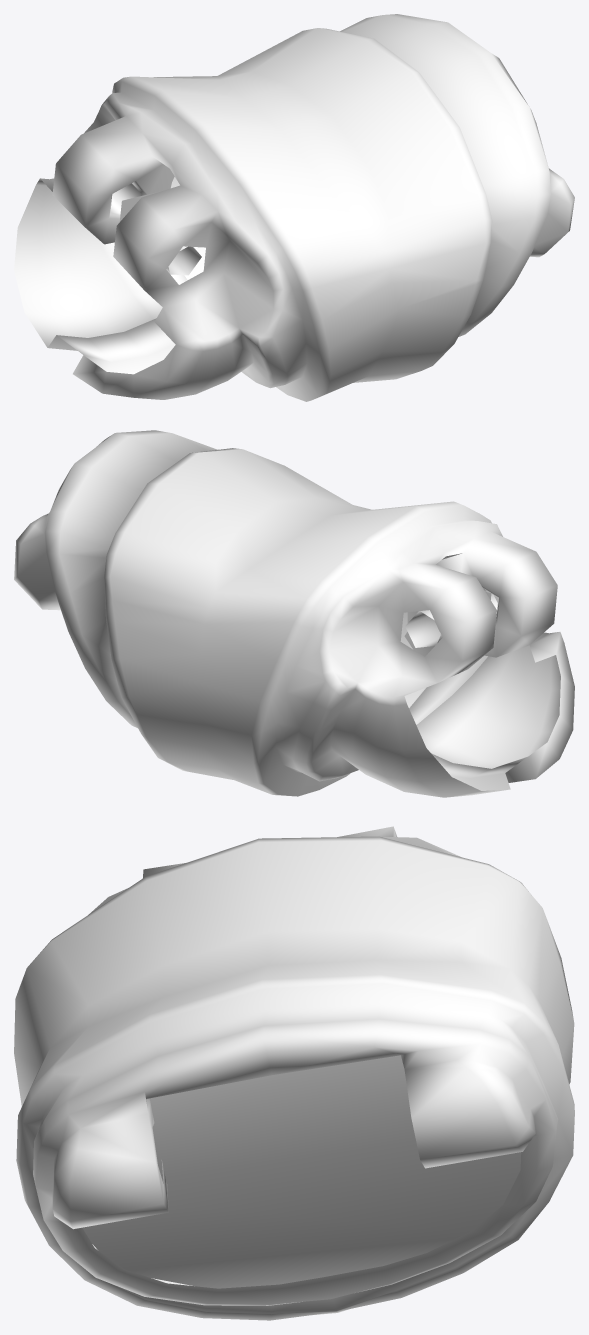
The model's file is RFinger22.dae.
3 views of the same model, one above another, from view 1: azimuth 30°, elevation 25°; view 2: azimuth 150°, elevation 25°; view 3: azimuth 270°, elevation 25° (orthographic). The views are drawn at different scales.
Parts seen in each view (by area): view 1: RFinger22; view 2: RFinger22; view 3: RFinger22.
Boxes of the visible parts, box(x1,y1,x2,y2) form: RFinger22: box(14, 14, 574, 401); RFinger22: box(14, 430, 574, 797); RFinger22: box(14, 826, 574, 1320).
Size of the model in its own units: 0.1938 by 0.1588 by 0.1204.
1 material, 1 textured.
